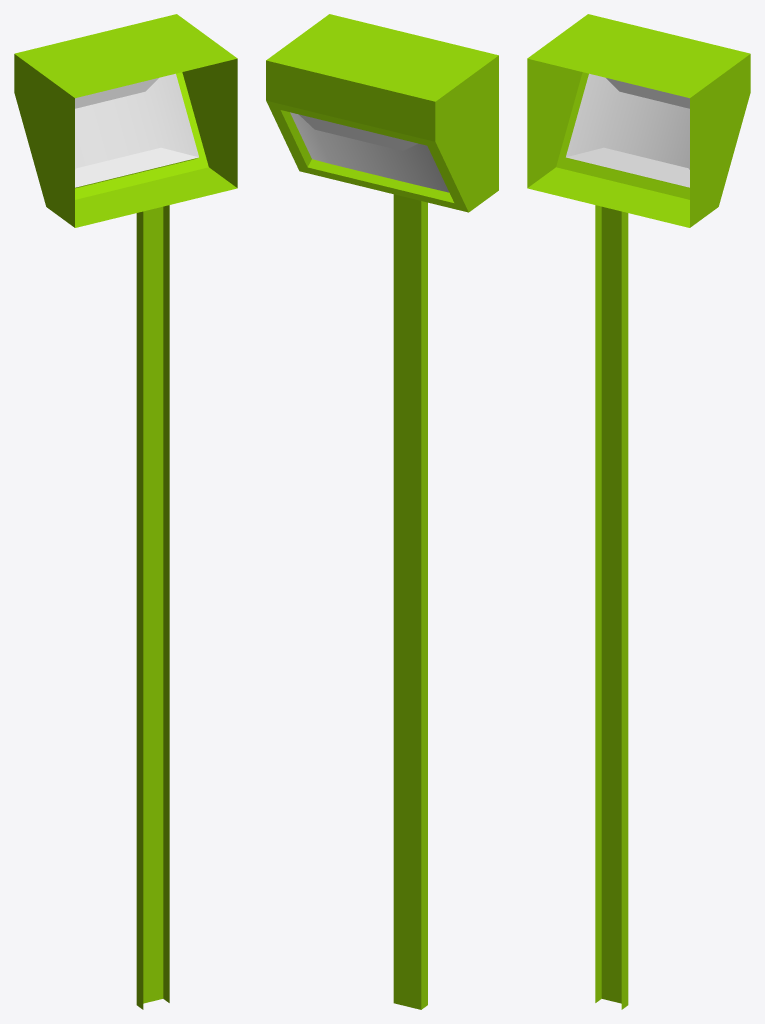
The model's file is Asset_Garage1_6.fbx.
3 views of the same model, side by side, from view 1: azimuth 30°, elevation 25°; view 2: azimuth 150°, elevation 25°; view 3: azimuth 330°, elevation 25° (orthographic). The views are drawn at different scales.
Parts seen in each view (by area): view 1: Asset_Garage1_6; view 2: Asset_Garage1_6; view 3: Asset_Garage1_6.
Boxes of the visible parts, x1,y1,x2,y2 form: Asset_Garage1_6: (14, 14, 237, 1009); Asset_Garage1_6: (266, 14, 498, 1009); Asset_Garage1_6: (527, 14, 750, 1009).
Size of the model in its own units: 44.11 by 241 by 28.61.
